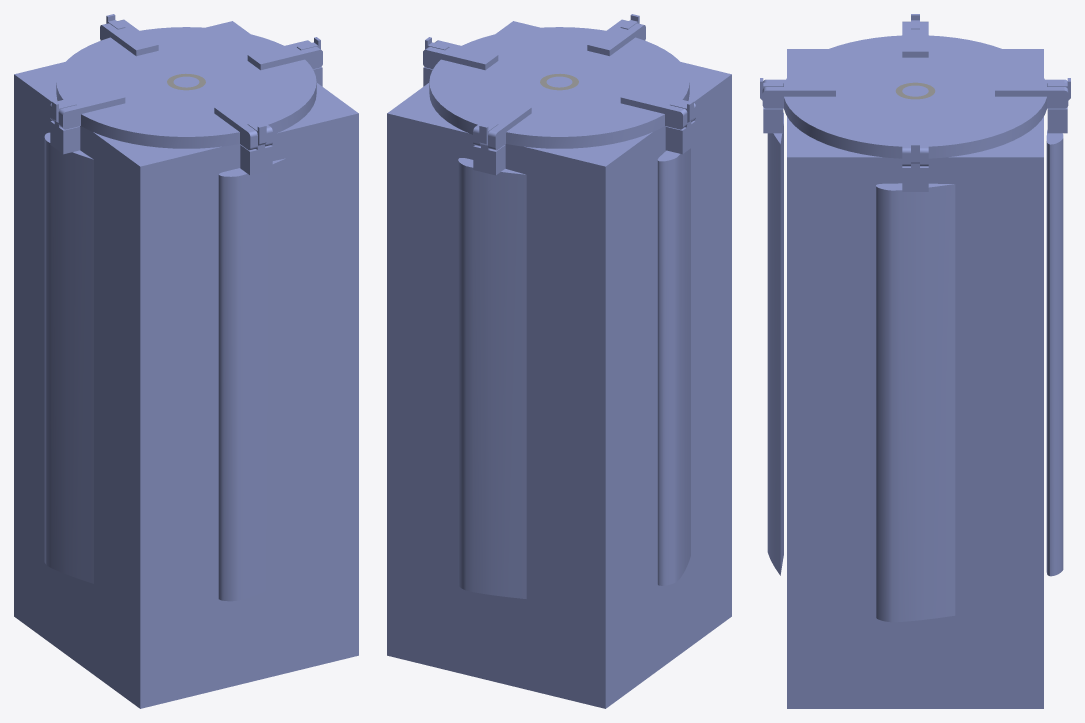
Rendered from CANSAT.obj.
The picture shows the model from 3 angles, left to right: view 1: azimuth 30°, elevation 25°; view 2: azimuth 150°, elevation 25°; view 3: azimuth 270°, elevation 25°; orthographic projection.
Visible parts, largest first — view 1: mesh_0, mesh_4, mesh_1, mesh_15, mesh_7, mesh_8, mesh_2, mesh_6, mesh_3, mesh_11; view 2: mesh_0, mesh_5, mesh_1, mesh_15, mesh_7, mesh_8, mesh_6, mesh_2, mesh_10, mesh_11; view 3: mesh_0, mesh_16, mesh_1, mesh_5, mesh_4, mesh_2, mesh_6, mesh_8, mesh_9, mesh_7, mesh_3, mesh_10.
Boxes of the visible parts, x1=… form: mesh_0: x1=14, y1=21, x2=358, y2=708; mesh_4: x1=218, y1=158, x2=286, y2=601; mesh_1: x1=56, y1=27, x2=316, y2=148; mesh_15: x1=44, y1=132, x2=93, y2=583; mesh_7: x1=50, y1=88, x2=125, y2=129; mesh_8: x1=247, y1=40, x2=322, y2=70; mesh_2: x1=214, y1=102, x2=272, y2=150; mesh_6: x1=100, y1=19, x2=158, y2=56; mesh_3: x1=240, y1=122, x2=272, y2=175; mesh_11: x1=50, y1=101, x2=80, y2=154; mesh_0: x1=387, y1=21, x2=731, y2=708; mesh_5: x1=458, y1=158, x2=526, y2=598; mesh_1: x1=429, y1=27, x2=689, y2=148; mesh_15: x1=657, y1=148, x2=690, y2=585; mesh_7: x1=620, y1=88, x2=695, y2=129; mesh_8: x1=423, y1=40, x2=498, y2=70; mesh_6: x1=473, y1=102, x2=531, y2=150; mesh_2: x1=587, y1=19, x2=645, y2=56; mesh_10: x1=473, y1=122, x2=505, y2=175; mesh_11: x1=665, y1=101, x2=695, y2=154; mesh_0: x1=787, y1=49, x2=1043, y2=708; mesh_16: x1=876, y1=183, x2=955, y2=622; mesh_1: x1=784, y1=35, x2=1046, y2=158; mesh_5: x1=1046, y1=130, x2=1063, y2=576; mesh_4: x1=767, y1=112, x2=783, y2=575; mesh_2: x1=762, y1=79, x2=835, y2=108; mesh_6: x1=995, y1=79, x2=1068, y2=108; mesh_8: x1=902, y1=118, x2=928, y2=166; mesh_9: x1=902, y1=140, x2=928, y2=191; mesh_7: x1=902, y1=21, x2=928, y2=57; mesh_3: x1=760, y1=78, x2=783, y2=133; mesh_10: x1=1047, y1=78, x2=1070, y2=133.
Size of the model in its own units: 117 by 240 by 117.
